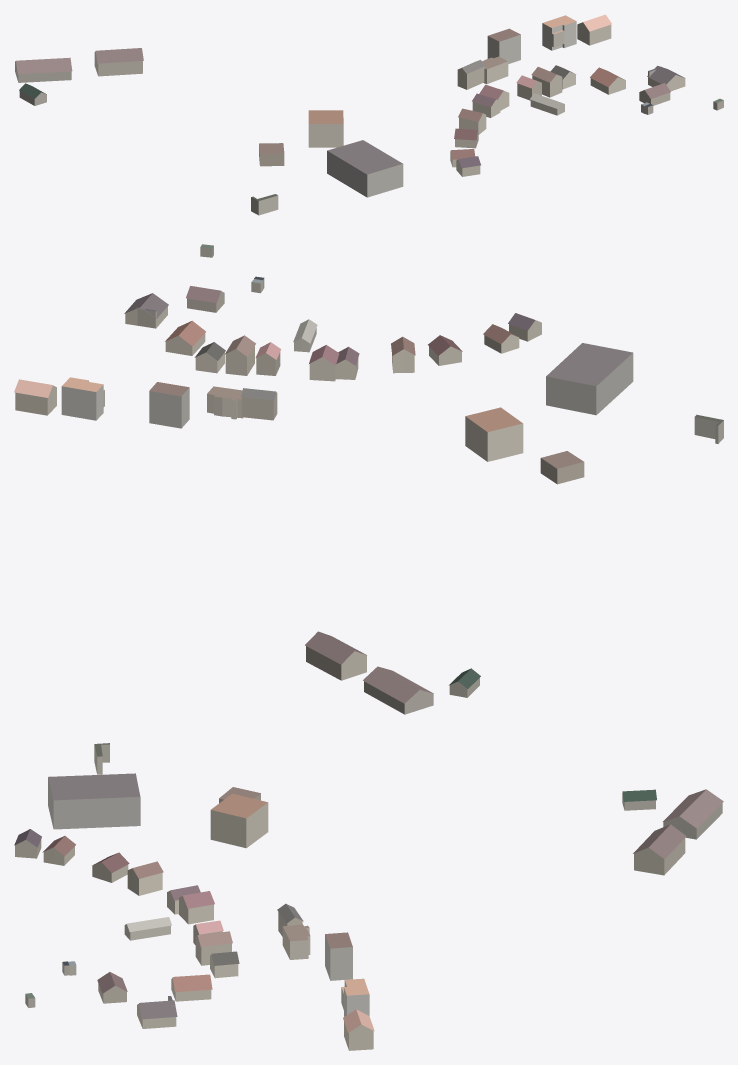
The picture shows the model from 3 angles, top to bottom: view 1: azimuth 30°, elevation 25°; view 2: azimuth 150°, elevation 25°; view 3: azimuth 270°, elevation 25°; orthographic projection. The views are drawn at different scales.
Visible parts, largest first — view 1: tuile; view 2: tuile; view 3: tuile.
Part boxes in pixels (left/top/right/bottom): tuile: left=15, top=14, right=723, bottom=215; tuile: left=14, top=244, right=723, bottom=714; tuile: left=14, top=743, right=723, bottom=1050.
Bounding box in the file's own units: 250 × 36.72 × 257.
